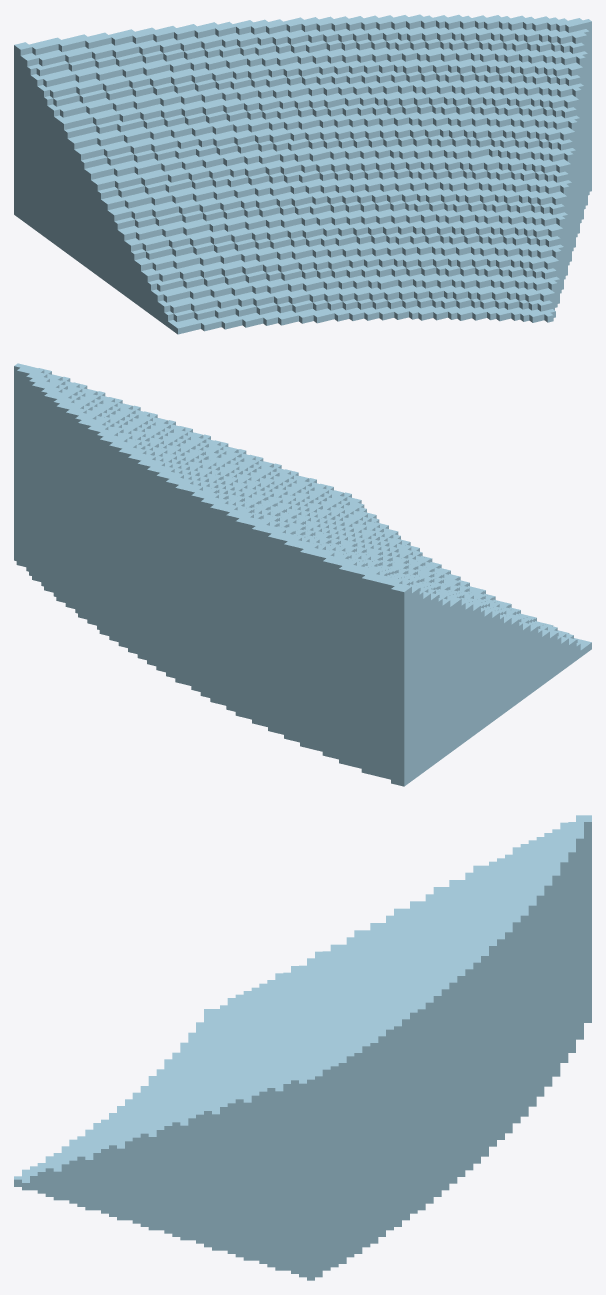
File: globus_right_glass_overtile.obj
The picture shows the model from 3 angles, top to bottom: view 1: azimuth 30°, elevation 25°; view 2: azimuth 150°, elevation 25°; view 3: azimuth 270°, elevation 25°; orthographic projection. The views are drawn at different scales.
Bounding box in the file's own units: 7.9 × 2.8 × 7.3.
Materials: 1 (1 with a texture image).
